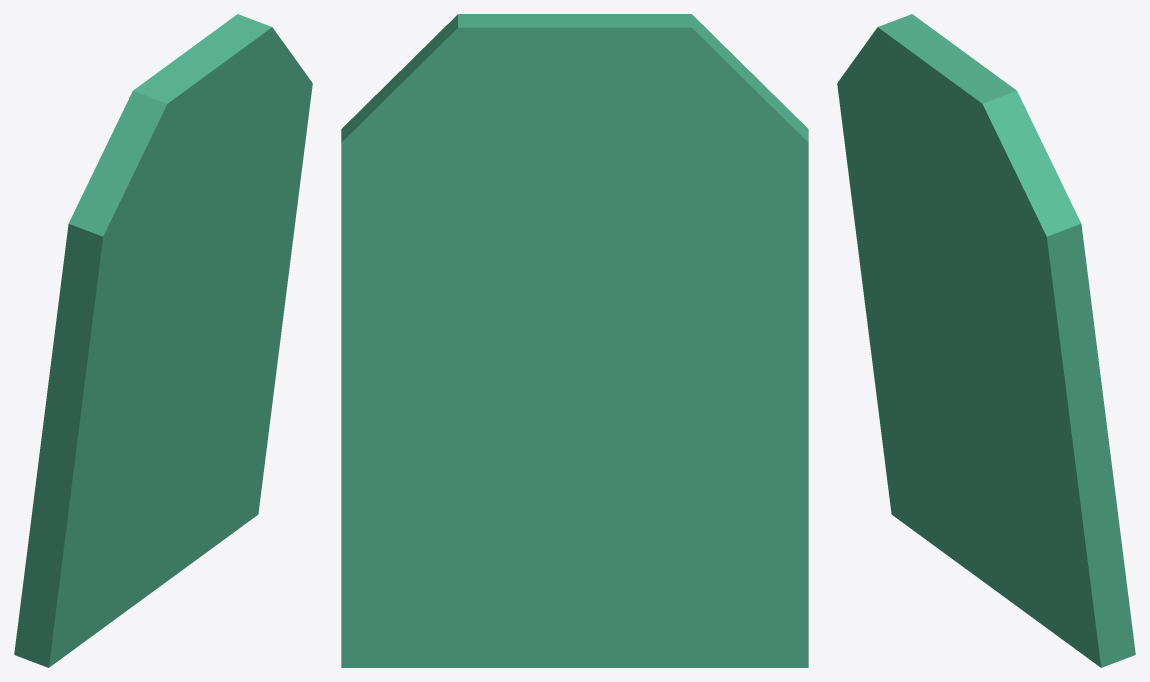
File: teaCupBag.obj
3 renders of one model, left to right at view 1: azimuth 30°, elevation 25°; view 2: azimuth 150°, elevation 25°; view 3: azimuth 270°, elevation 25°, orthographic. The views are drawn at different scales.
Visible parts, largest first — view 1: cupThea.001; view 2: cupThea.001; view 3: cupThea.001.
Part boxes in pixels (x1,y1,x2,y2): cupThea.001: (14, 14, 312, 667); cupThea.001: (341, 14, 808, 667); cupThea.001: (837, 14, 1135, 667).
Size of the model in its own units: 0.0688 by 0.1001 by 0.0496.
